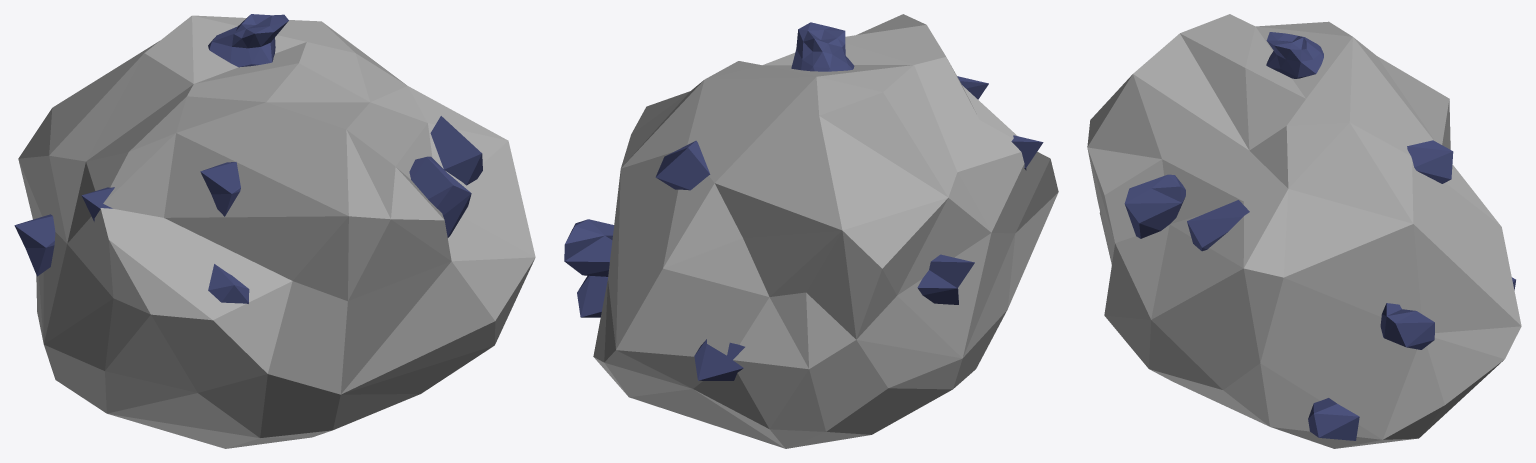
File: MetalOre.fbx
The picture shows the model from 3 angles, left to right: view 1: azimuth 30°, elevation 25°; view 2: azimuth 150°, elevation 25°; view 3: azimuth 270°, elevation 25°; orthographic projection. The views are drawn at different scales.
Visible parts, largest first — view 1: MetalOre; view 2: MetalOre; view 3: MetalOre.
Boxes of the visible parts, x1,y1,x2,y2 form: MetalOre: (14,14,535,448); MetalOre: (564,14,1058,448); MetalOre: (1087,14,1521,448).
Size of the model in its own units: 384 by 337 by 357.
